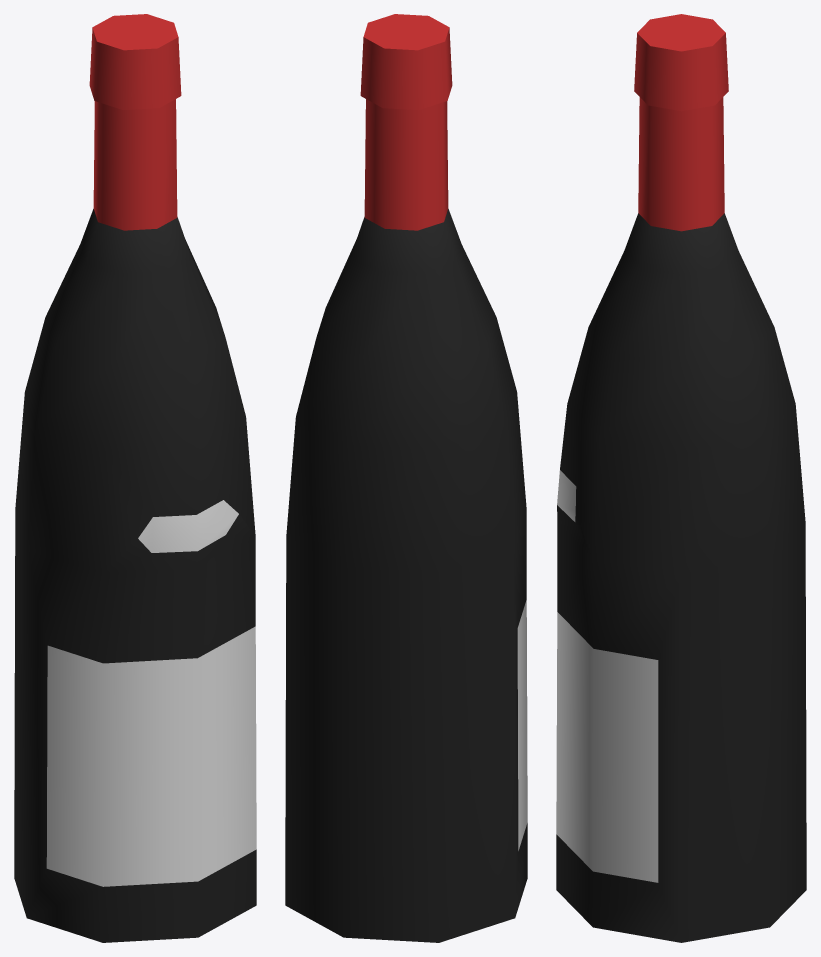
File: prop_052.fbx
The picture shows the model from 3 angles, left to right: view 1: azimuth 30°, elevation 25°; view 2: azimuth 150°, elevation 25°; view 3: azimuth 270°, elevation 25°; orthographic projection.
Parts seen in each view (by area): view 1: prop_052; view 2: prop_052; view 3: prop_052.
Boxes of the visible parts, bbox=[...] form: prop_052: bbox=[14, 14, 256, 942]; prop_052: bbox=[285, 14, 527, 942]; prop_052: bbox=[556, 14, 806, 942].
Bounding box in the file's own units: 11.45 × 11.45 × 43.26.
